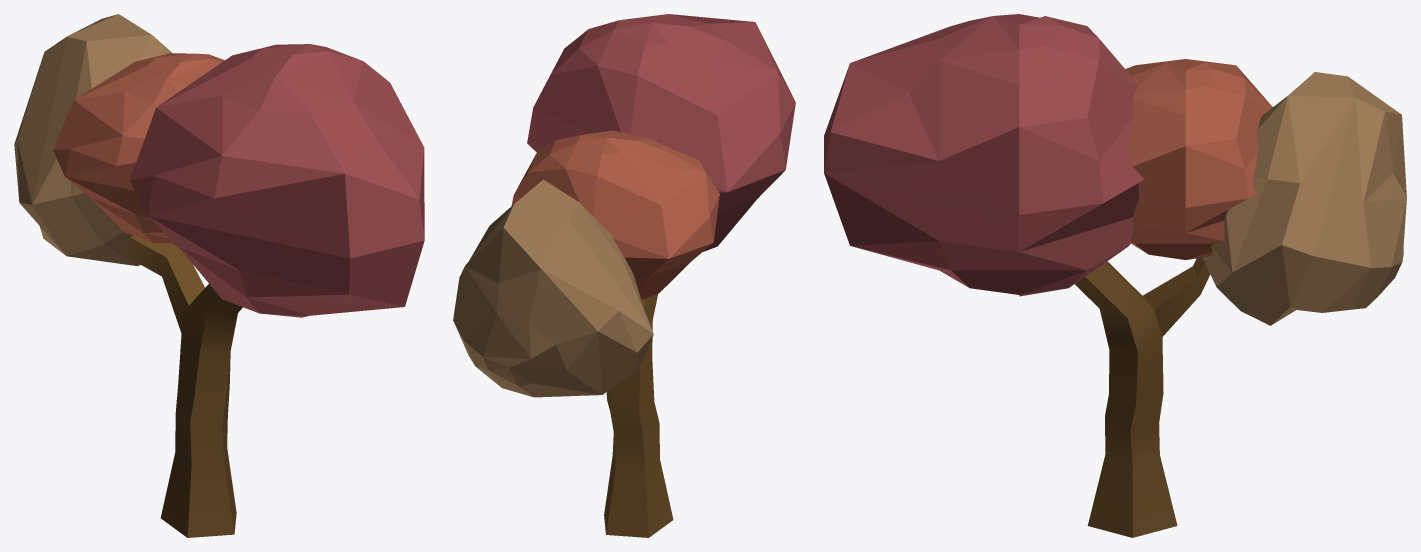
Rendered from autumntree1.fbx.
3 renders of one model, left to right at view 1: azimuth 30°, elevation 25°; view 2: azimuth 150°, elevation 25°; view 3: azimuth 270°, elevation 25°, orthographic. The views are drawn at different scales.
Parts seen in each view (by area): view 1: pSphere1, pCylinder1, pSphere3, pSphere2; view 2: pSphere1, pSphere3, pSphere2, pCylinder1; view 3: pSphere1, pSphere3, pSphere2, pCylinder1.
Part boxes in pixels (x1,y1,x2,y2): pSphere1: [130, 44, 424, 317]; pCylinder1: [125, 236, 242, 537]; pSphere3: [14, 14, 177, 266]; pSphere2: [53, 53, 224, 243]; pSphere1: [527, 14, 795, 251]; pSphere3: [453, 179, 653, 397]; pSphere2: [511, 130, 719, 299]; pCylinder1: [604, 294, 673, 537]; pSphere1: [824, 14, 1144, 296]; pSphere3: [1203, 72, 1406, 325]; pSphere2: [1125, 59, 1272, 259]; pCylinder1: [1075, 257, 1210, 537].
Size of the model in its own units: 11.08 by 19.73 by 20.29.
